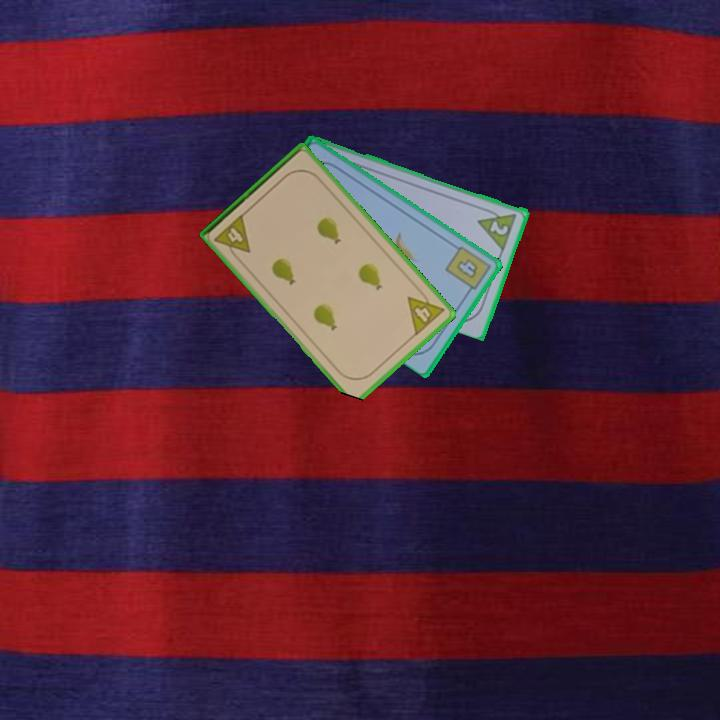2p: (487, 217, 512, 238)
4b: (442, 242, 494, 297)
4p: (404, 284, 447, 339), (210, 210, 254, 263)
